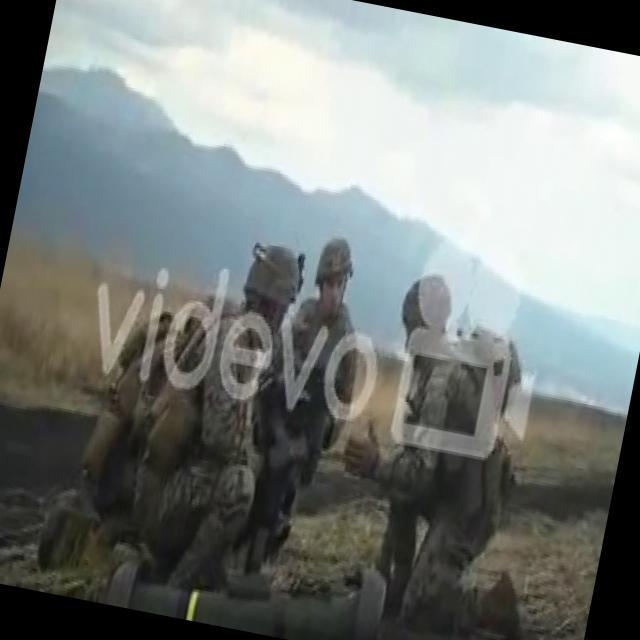rocket: (113, 527, 385, 640)
